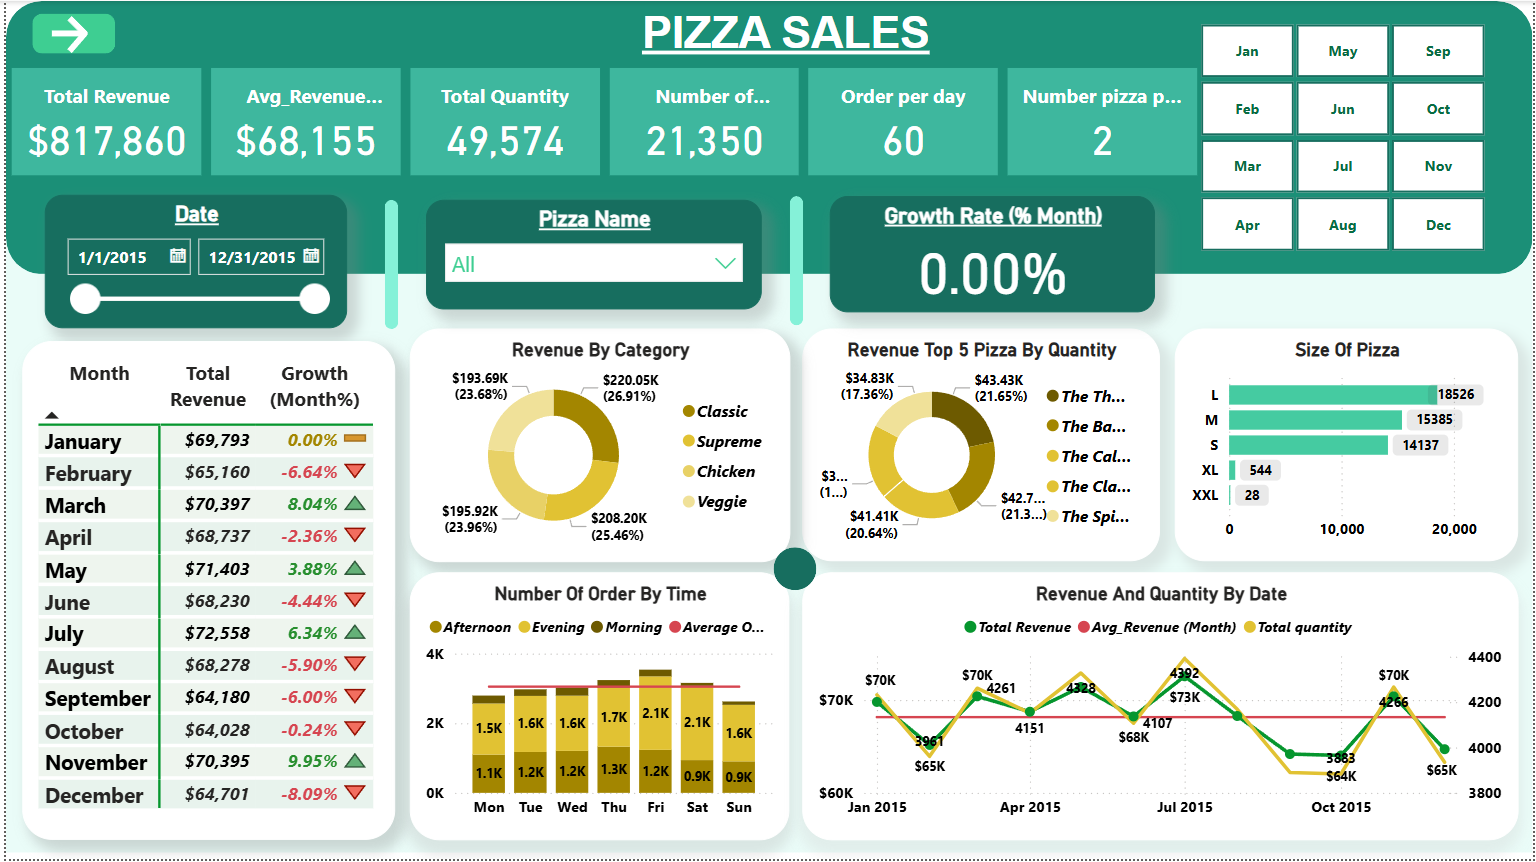

The dashboard page shown, as its layout file describes it:
{"tool":"powerbi","page":{"name":"Dashboard","canvas":[1280,720],"ordinal":0},"visuals":[{"type":"group","id":"g1","title":"Group 1","box":[22.1,10.5,69.6,33.7],"z":0,"group":"g2"},{"type":"shape","box":[22.1,10.5,69.6,33.7],"z":0,"group":"g1"},{"type":"shape","box":[0,30.2,1280.2,683.7],"z":0},{"type":"shape","title":"Pizza Sales","box":[0,0,1280.2,229.1],"z":1000},{"type":"actionButton","box":[33,8.1,46.8,39.6],"z":1000,"group":"g2"},{"type":"slicer","title":"Date","fields":{"Values":["Date.Date"]},"box":[32.6,162.8,253.5,111.6],"z":2000},{"type":"pivotTable","fields":{"Values":["Sales.Total Revenue","Sales.Growth (Month%)"],"Rows":["Calendar.Date.Variation.Date Hierarchy.Month"]},"box":[14.1,284.9,312.8,418.6],"z":3000},{"type":"donutChart","title":"Revenue Top 5 Pizza By Quantity","fields":{"Category":["Sales.name"],"Y":["Sum(Sales.Revenue)"]},"box":[667.6,274.4,300,195.3],"z":4000},{"type":"donutChart","title":"Revenue By Category","fields":{"Category":["Sales.category"],"Y":["Sum(Sales.Revenue)"]},"box":[338.4,274.8,318.8,195.6],"z":5000},{"type":"clusteredBarChart","title":"Size Of Pizza","fields":{"Category":["Sales.size"],"Y":["CountNonNull(Sales.size)"]},"box":[980.4,274.4,288.4,195.3],"z":6000},{"type":"lineStackedColumnComboChart","title":"Number Of Order By Time","fields":{"Category":["Calendar.Weekday_Text"],"Series":["Sales.Time_of_day"],"Y":["Count(Sales.order_id)"],"Y2":["Sales.Average Order per Week_Day"]},"box":[338.5,479.1,318.6,224.4],"z":7000},{"type":"lineChart","title":"Revenue And Quantity By Date","fields":{"Category":["Calendar.Date.Variation.Date Hierarchy.Year","Calendar.Date.Variation.Date Hierarchy.Month","Calendar.Date.Variation.Date Hierarchy.Day"],"Y":["Sum(Sales.Revenue)","Sales.Avg_Revenue (Month)"],"Y2":["Sum(Sales.quantity)"]},"box":[667.6,479.1,601.2,224.4],"z":8000},{"type":"slicer","title":"Pizza Name","fields":{"Values":["Sales.name"]},"box":[352.3,166.3,281.4,91.9],"z":9000},{"type":"slicer","fields":{"Values":["Calendar.Month_Text"]},"box":[975.8,12.4,288.3,203.5],"z":10000},{"type":"card","title":"Growth Rate (% Month)","fields":{"Values":["Sales.Growth (Month%)"]},"box":[690.8,163.9,272.5,97.2],"z":11000},{"type":"textbox","box":[527.9,0,268.6,55.8],"z":12000},{"type":"group","id":"g2","title":"Group 2","box":[22.1,8.1,68.6,39.5],"z":13000},{"type":"shape","box":[317.7,166.2,11.3,108.5],"z":14000},{"type":"shape","box":[656.9,163.9,11.3,108.5],"z":15000},{"type":"shape","box":[644.2,458.1,36,36],"z":16000},{"type":"cardVisual","fields":{"Data":["Sales.Total Revenue","Sales.Avg_Revenue (Month)","Sales.Total Quantity","Sales.Number of Orders","Sales.Order per day","Sales.Average pizza per Order"]},"box":[0,51.2,1004.7,100],"z":17000}]}

Visuals, with their boxes in screenshot pixels (x1, y1, x2, y2), scaled from the page's 1280x720 canvas onto the 1536x862 screenshot:
"Group 1" group: (left=27, top=13, right=110, bottom=53)
shape: (left=27, top=13, right=110, bottom=53)
shape: (left=0, top=36, right=1535, bottom=855)
"Pizza Sales" shape: (left=0, top=0, right=1535, bottom=274)
actionButton: (left=40, top=10, right=96, bottom=57)
"Date" slicer: (left=39, top=195, right=343, bottom=329)
pivotTable - Sales.Total Revenue x Sales.Growth (Month%): (left=17, top=341, right=392, bottom=842)
"Revenue Top 5 Pizza By Quantity" donutChart: (left=801, top=329, right=1161, bottom=562)
"Revenue By Category" donutChart: (left=406, top=329, right=789, bottom=563)
"Size Of Pizza" clusteredBarChart: (left=1176, top=329, right=1523, bottom=562)
"Number Of Order By Time" lineStackedColumnComboChart: (left=406, top=574, right=789, bottom=842)
"Revenue And Quantity By Date" lineChart: (left=801, top=574, right=1523, bottom=842)
"Pizza Name" slicer: (left=423, top=199, right=760, bottom=309)
slicer - Calendar.Month_Text: (left=1171, top=15, right=1517, bottom=258)
"Growth Rate (% Month)" card: (left=829, top=196, right=1156, bottom=313)
textbox: (left=633, top=0, right=956, bottom=67)
"Group 2" group: (left=27, top=10, right=109, bottom=57)
shape: (left=381, top=199, right=395, bottom=329)
shape: (left=788, top=196, right=802, bottom=326)
shape: (left=773, top=548, right=816, bottom=592)
cardVisual - Sales.Total Revenue x Sales.Avg_Revenue (Month): (left=0, top=61, right=1206, bottom=181)
